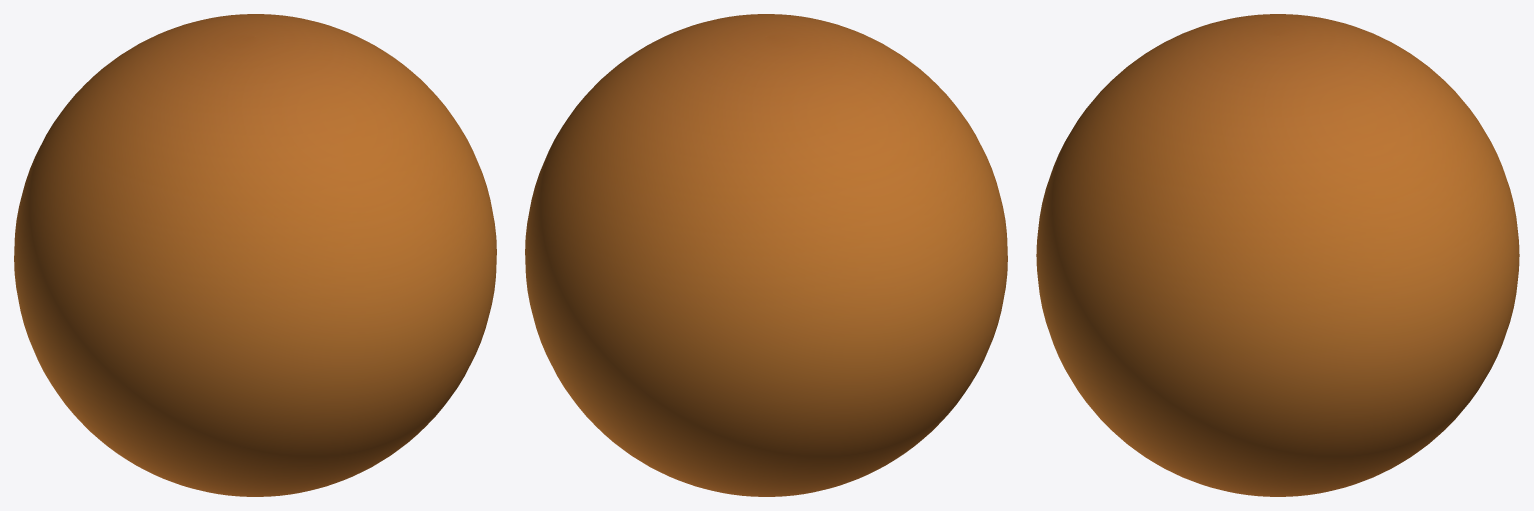
File: titan.glb
3 views of the same model, side by side, from view 1: azimuth 30°, elevation 25°; view 2: azimuth 150°, elevation 25°; view 3: azimuth 270°, elevation 25° (orthographic).
Parts seen in each view (by area): view 1: model; view 2: model; view 3: model.
Part boxes in pixels (x1,y1,x2,y2): model: (14, 14, 496, 496); model: (525, 14, 1007, 496); model: (1036, 14, 1519, 496).
Size of the model in its own units: 0.4 by 0.4 by 0.4.
Materials: 3 (3 with a texture image).
